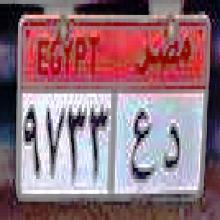3: (88, 102, 111, 186), (67, 101, 88, 184)
7: (45, 102, 65, 182)
9: (22, 102, 42, 187)
ain: (128, 106, 156, 190)
daal: (160, 109, 182, 181)
